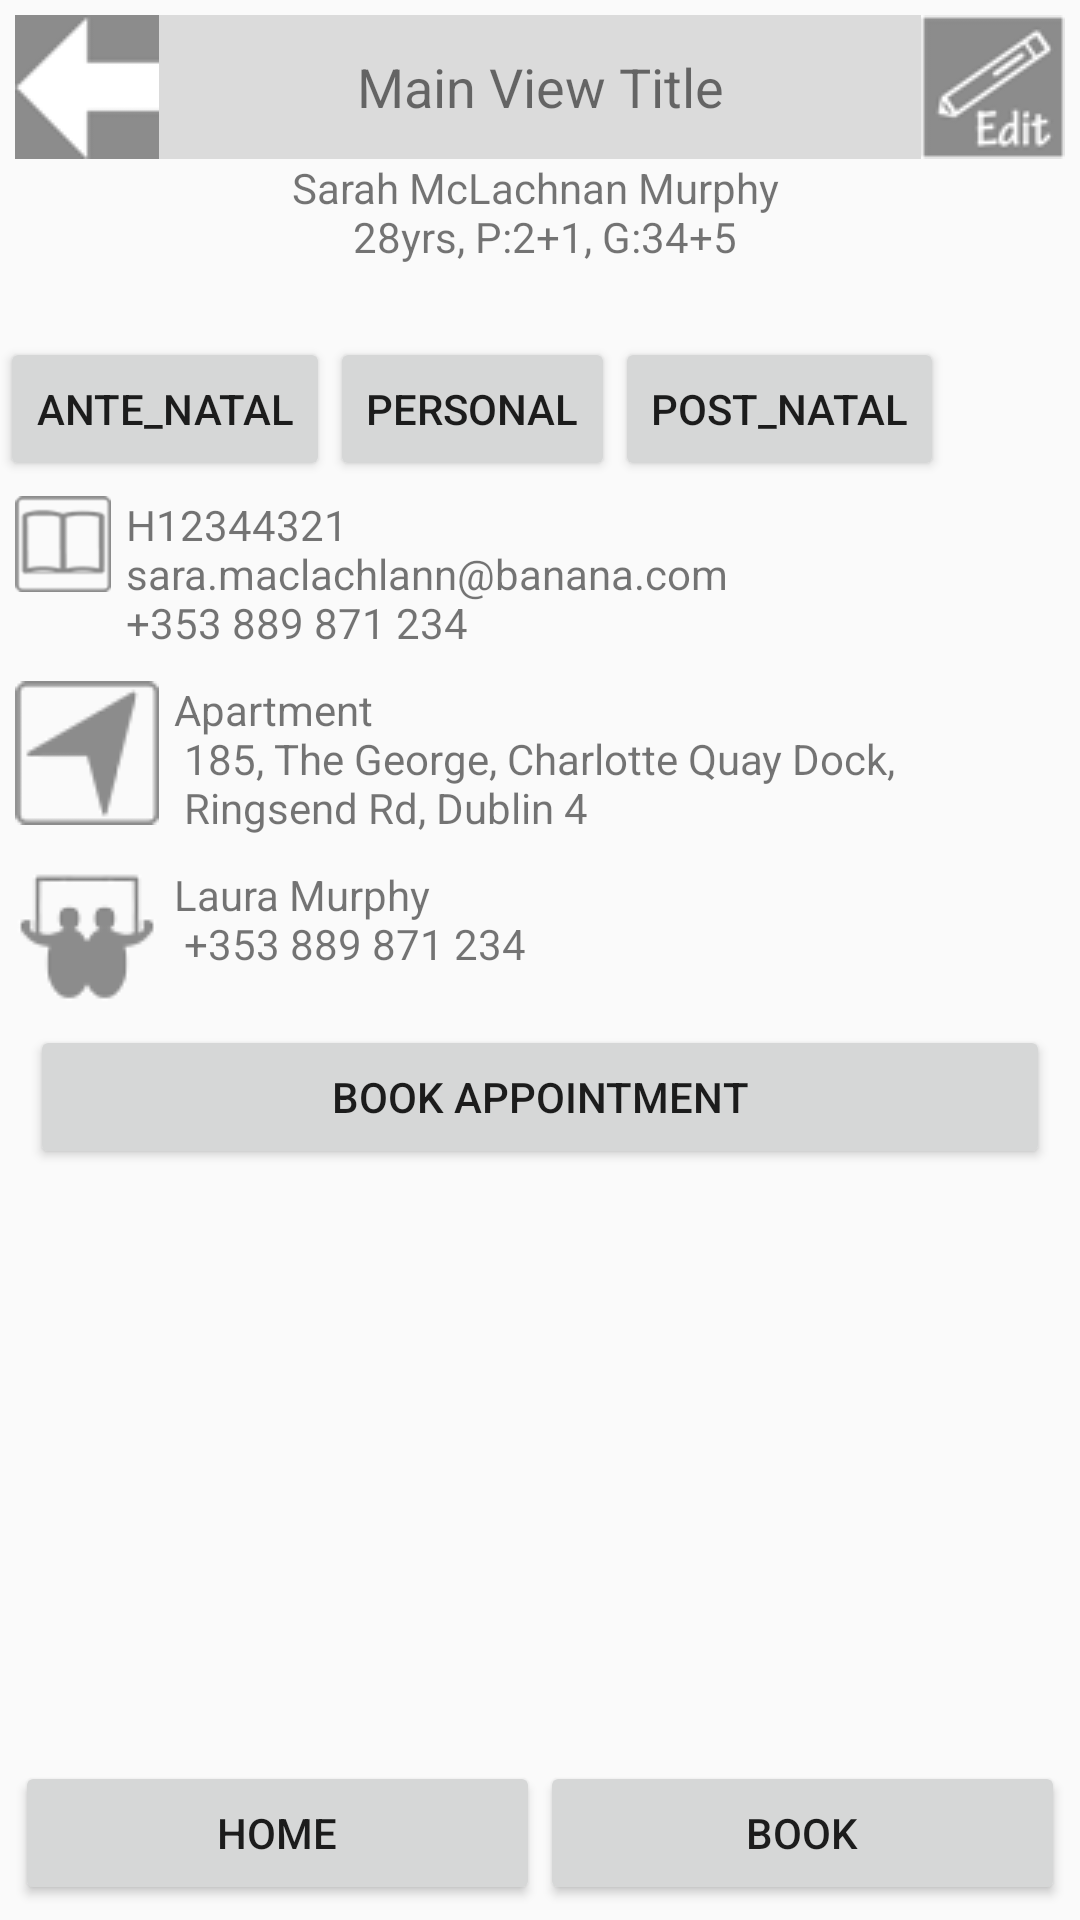

Locate icon controls on the screen. Image size 1080w x 1920h, boxes as (x1, y1, x2, y2).
back arrow: (15, 15, 159, 159)
direction hint: (15, 681, 159, 825)
